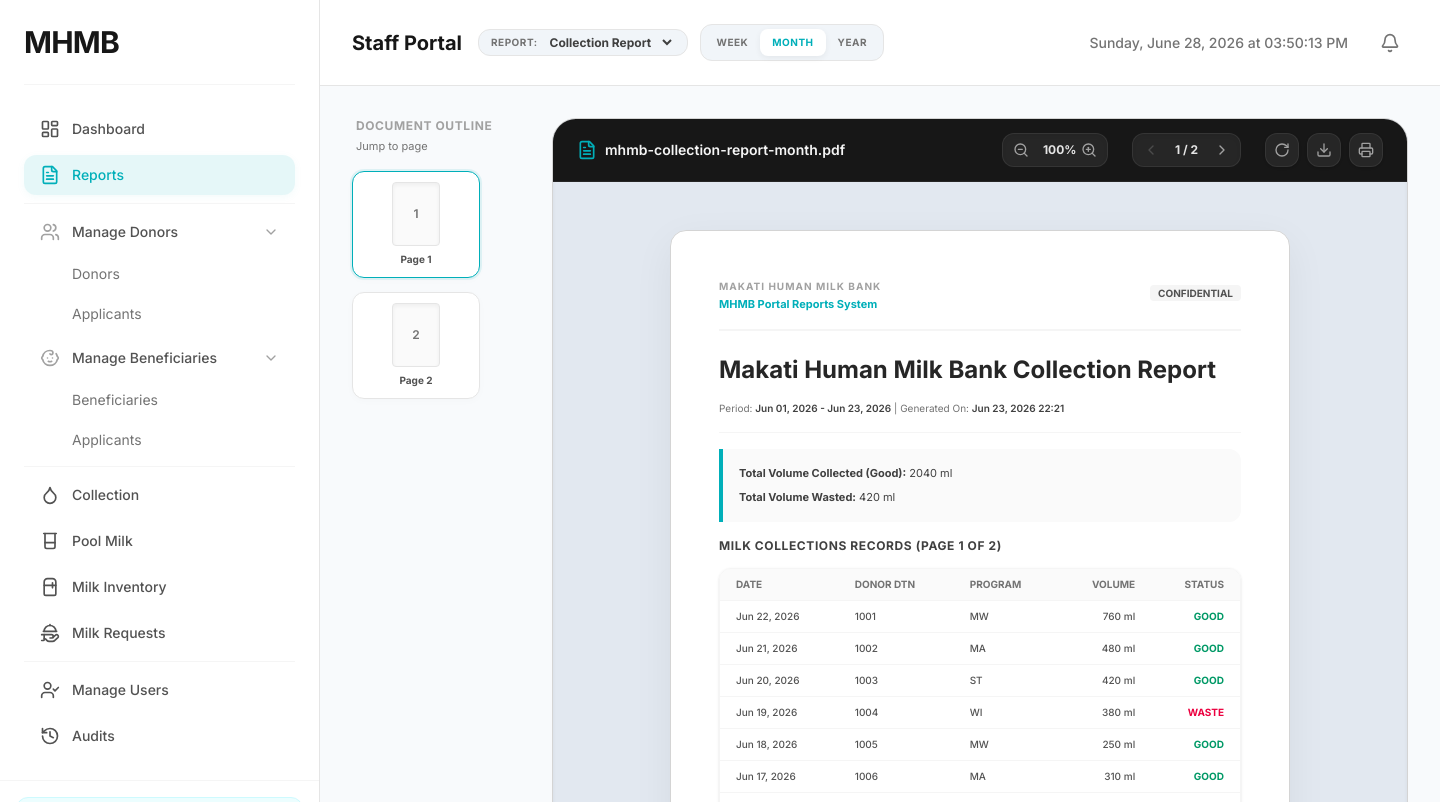
Test case: StaffReports Component › jumps directly to pages via document outline previews
Note: Click Outline Page 2 (last page with default data)
Click the button with test id "outline-page-2".
click(416, 345)  # box [352,292,480,398]
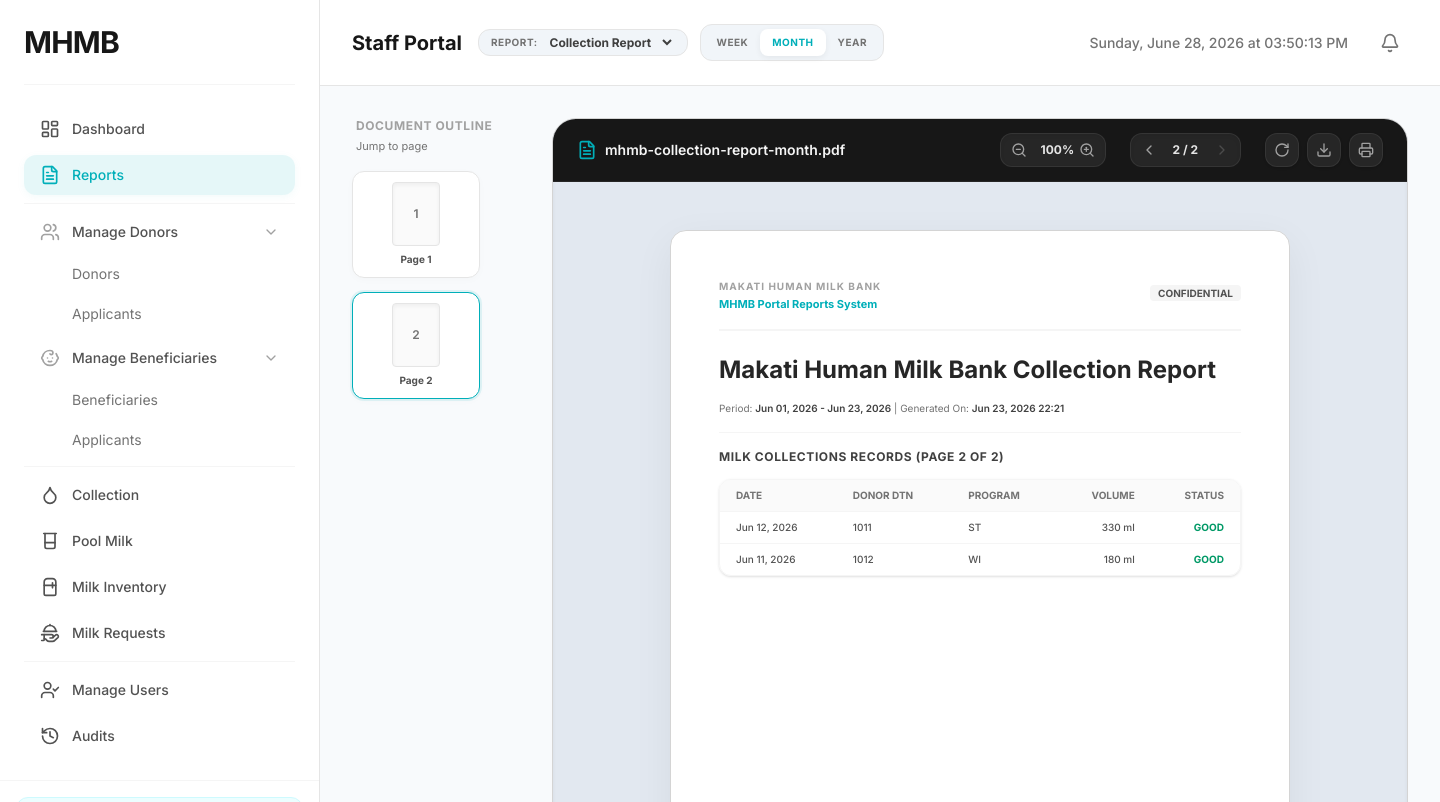
Expected: the element with test id "pdf-page-2" is shown, [719,354,1241,576]
